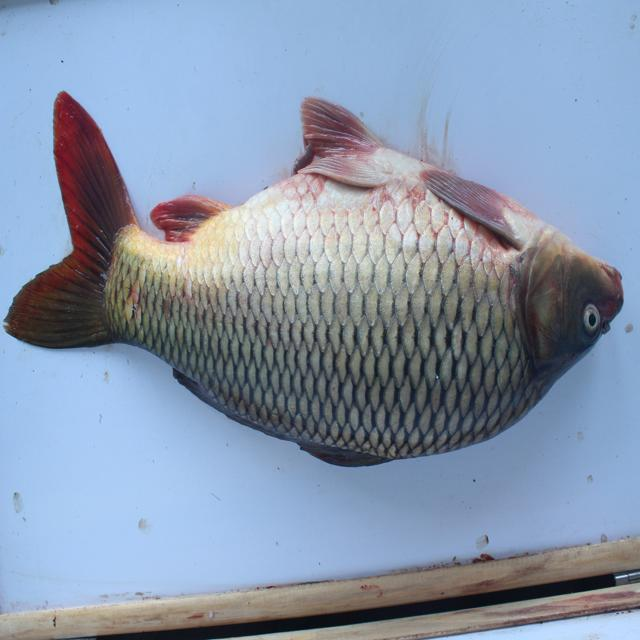CommonCarp: (5, 71, 638, 471)
